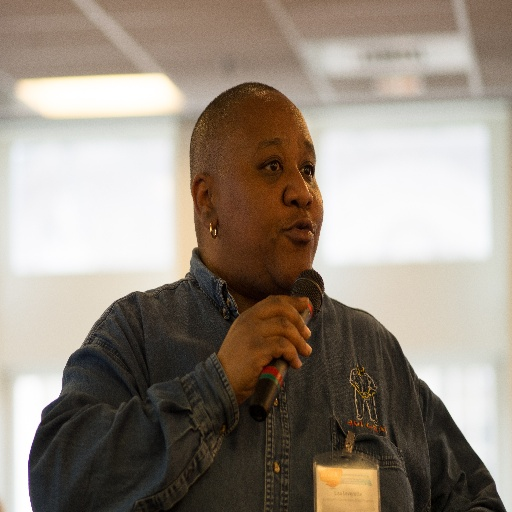hand: (224, 288, 310, 416)
